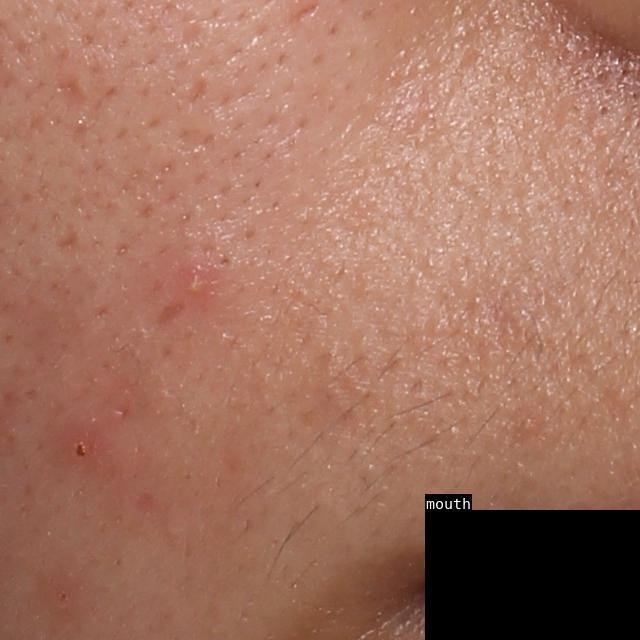atrophic_scar: (46, 72, 93, 117), (54, 226, 91, 267), (174, 124, 217, 156), (156, 298, 185, 329), (183, 72, 210, 101)
papule: (59, 428, 98, 465)
pustule: (167, 253, 229, 312)
